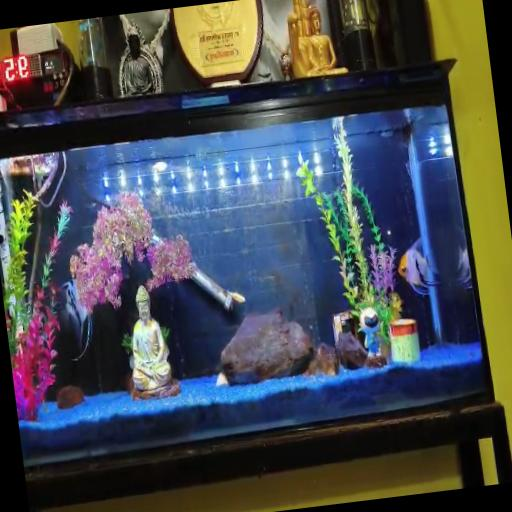Fish: (397, 239, 471, 295), (59, 279, 92, 360)
